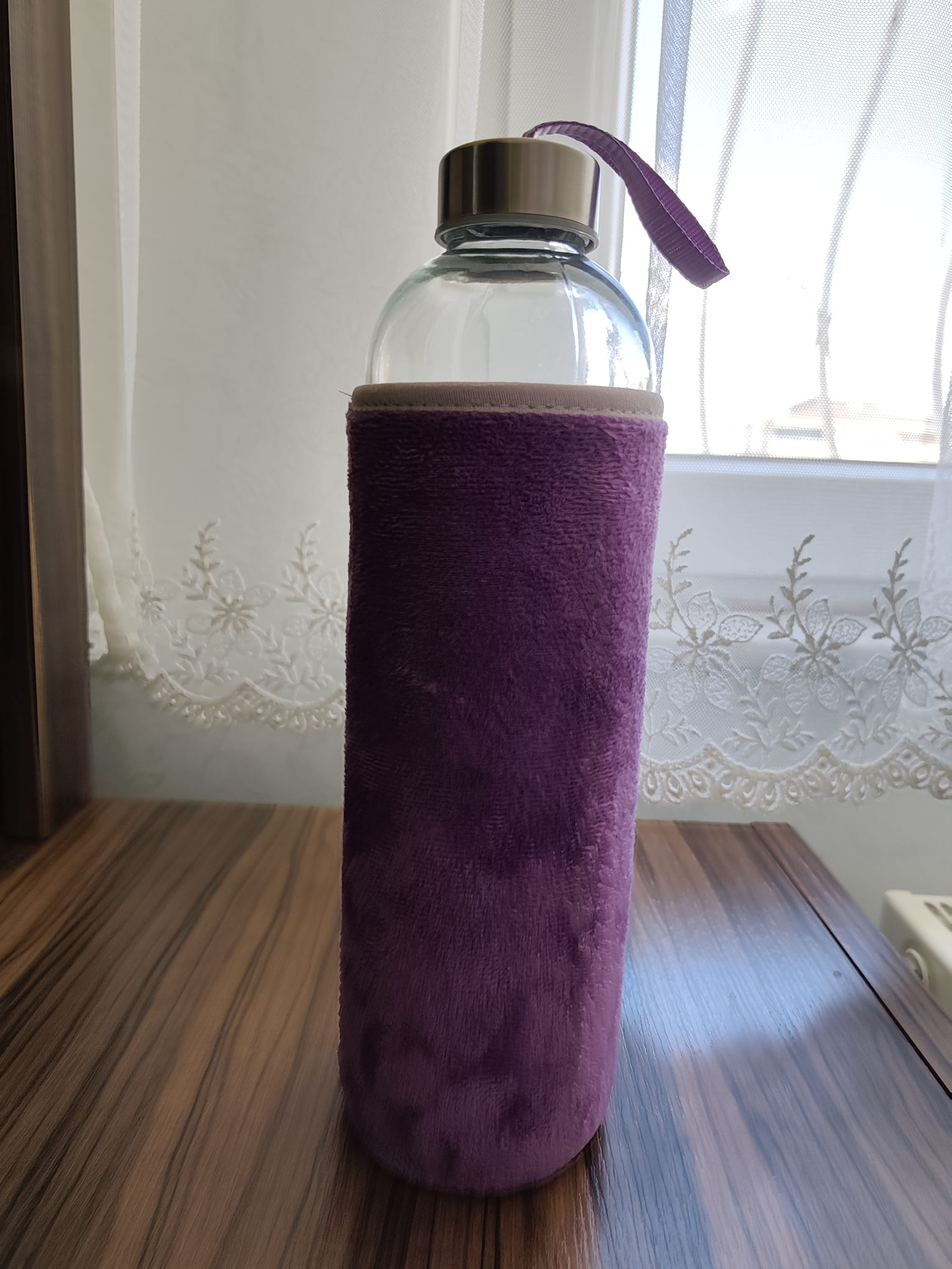su_sisesi: (345, 106, 732, 1218)
